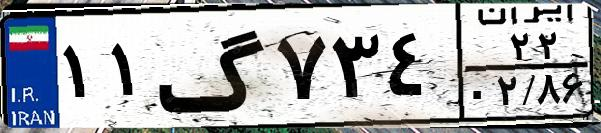0: (470, 70, 495, 125)
1: (57, 26, 110, 100), (110, 28, 156, 98)
2: (537, 27, 568, 80), (508, 27, 537, 80), (495, 70, 520, 125)
3: (330, 28, 385, 110)
4: (385, 28, 445, 110)
6: (560, 70, 590, 125)
7: (270, 28, 330, 110)
8: (535, 70, 560, 125)
گ: (156, 12, 270, 120)
